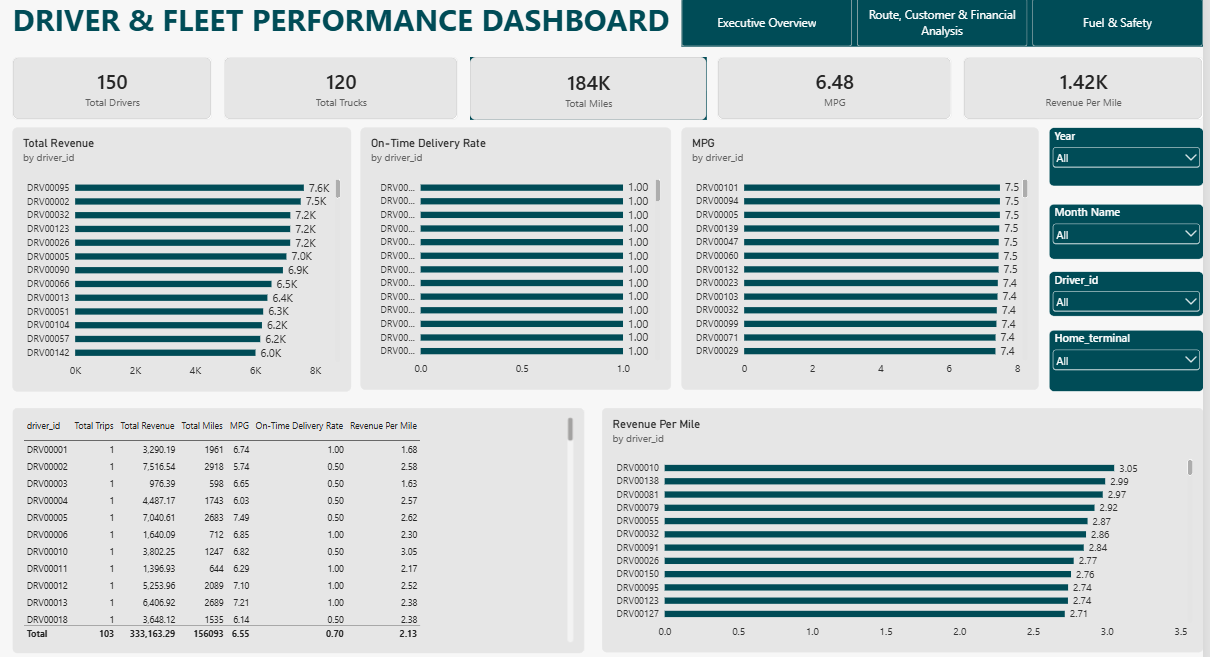

Layout of this report page (visuals, bound fields, positions):
{"tool":"powerbi","page":{"name":"Driver & Fleet Performance","canvas":[1920,1080],"ordinal":1},"visuals":[{"type":"clusteredBarChart","fields":{"Category":["Drivers.driver_id"],"Y":["Delivery event.On-Time Rate"]},"box":[579.8,221.9,493.9,417.5],"z":0},{"type":"barChart","fields":{"Category":["Drivers.driver_id"],"Y":["Trips.MPG"]},"box":[1090.4,221.9,567.8,417.5],"z":1000},{"type":"barChart","fields":{"Category":["Drivers.driver_id"],"Y":["Trips.Revenue Per Mile"]},"box":[963.9,668.1,956.8,388.9],"z":2000},{"type":"tableEx","fields":{"Values":["Drivers.driver_id","Trips.Total Trips","Loads.Total Revenue","Trips.Total Miles","Trips.MPG","Delivery event.On-Time Rate","Trips.Revenue Per Mile"]},"box":[26.2,668.1,909.2,389.7],"z":3000},{"type":"cardVisual","fields":{"Data":["Drivers.Total Drivers"]},"box":[26.2,109.8,317.3,100.2],"z":4000},{"type":"cardVisual","fields":{"Data":["Trucks.Total Trucks"]},"box":[362.1,109.8,372.2,100.2],"z":5000},{"type":"cardVisual","fields":{"Data":["Trips.Total Miles"]},"box":[752.8,109.8,377,100.2],"z":6000},{"type":"cardVisual","fields":{"Data":["Trips.Revenue Per Mile"]},"box":[1538.3,109.8,381.7,100.2],"z":7000},{"type":"cardVisual","fields":{"Data":["Trips.MPG"]},"box":[1148.2,109.8,372.2,100.2],"z":8000},{"type":"barChart","fields":{"Category":["Driver's monthly metrics.driver_id"],"Y":["Loads.Total Revenue"]},"box":[25.3,220.8,538.7,420.3],"z":9000},{"type":"slicer","fields":{"Values":["DateTable.Month Name"]},"box":[1674.9,343.6,245.7,88.3],"z":10000},{"type":"slicer","fields":{"Values":["Drivers.driver_id"]},"box":[1674.9,450.9,245.7,71.6],"z":11000},{"type":"slicer","fields":{"Values":["Drivers.home_terminal"]},"box":[1674.9,544,245.7,97.8],"z":12000},{"type":"slicer","title":"Year","fields":{"Values":["DateTable.Year","DateTable.Year"]},"box":[1674.9,221.9,245.7,93.1],"z":13000},{"type":"textbox","box":[26.2,16.7,1088,76.3],"z":14000},{"type":"pageNavigator","box":[1090.4,16.7,830.3,76.3],"z":15000}]}

Visuals, with their boxes on the page's 1920x1080 design canvas (x1, y1, x2, y2). These are canvas units, not pixel positions in the 1210x657 screenshot, which may show the page scaled, cropped or inside an application window:
clusteredBarChart - Drivers.driver_id x Delivery event.On-Time Rate: 580,222,1074,639
barChart - Drivers.driver_id x Trips.MPG: 1090,222,1658,639
barChart - Drivers.driver_id x Trips.Revenue Per Mile: 964,668,1921,1057
tableEx - Drivers.driver_id x Trips.Total Trips: 26,668,935,1058
cardVisual - Drivers.Total Drivers: 26,110,344,210
cardVisual - Trucks.Total Trucks: 362,110,734,210
cardVisual - Trips.Total Miles: 753,110,1130,210
cardVisual - Trips.Revenue Per Mile: 1538,110,1920,210
cardVisual - Trips.MPG: 1148,110,1520,210
barChart - Driver's monthly metrics.driver_id x Loads.Total Revenue: 25,221,564,641
slicer - DateTable.Month Name: 1675,344,1921,432
slicer - Drivers.driver_id: 1675,451,1921,522
slicer - Drivers.home_terminal: 1675,544,1921,642
"Year" slicer: 1675,222,1921,315
textbox: 26,17,1114,93
pageNavigator: 1090,17,1921,93
